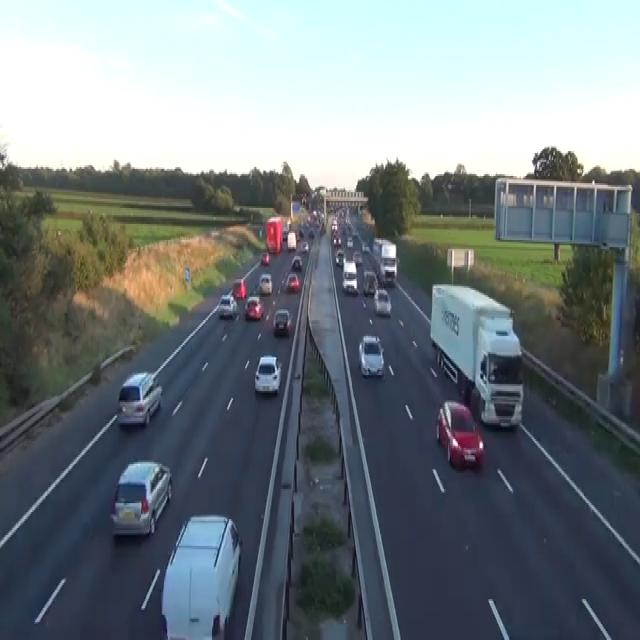Car: (160, 514, 242, 638), (110, 459, 172, 537), (435, 400, 484, 468), (116, 372, 162, 426), (358, 332, 384, 377), (254, 354, 282, 394), (272, 309, 291, 336), (373, 288, 391, 316), (244, 295, 263, 320), (218, 294, 237, 318), (363, 270, 378, 295), (282, 272, 299, 292), (259, 272, 272, 295), (232, 279, 246, 299), (343, 260, 357, 278), (291, 254, 302, 270), (335, 249, 344, 267), (352, 251, 362, 265), (260, 251, 269, 265), (332, 233, 341, 245), (301, 240, 309, 252), (361, 242, 370, 252), (226, 286, 234, 297), (282, 226, 288, 240), (346, 235, 353, 247), (331, 217, 337, 231), (319, 222, 325, 235), (298, 228, 304, 238), (295, 229, 299, 242), (308, 228, 314, 236), (336, 237, 341, 246)
Truck: (429, 282, 524, 428), (372, 236, 398, 286), (265, 215, 282, 254), (287, 229, 296, 251)
